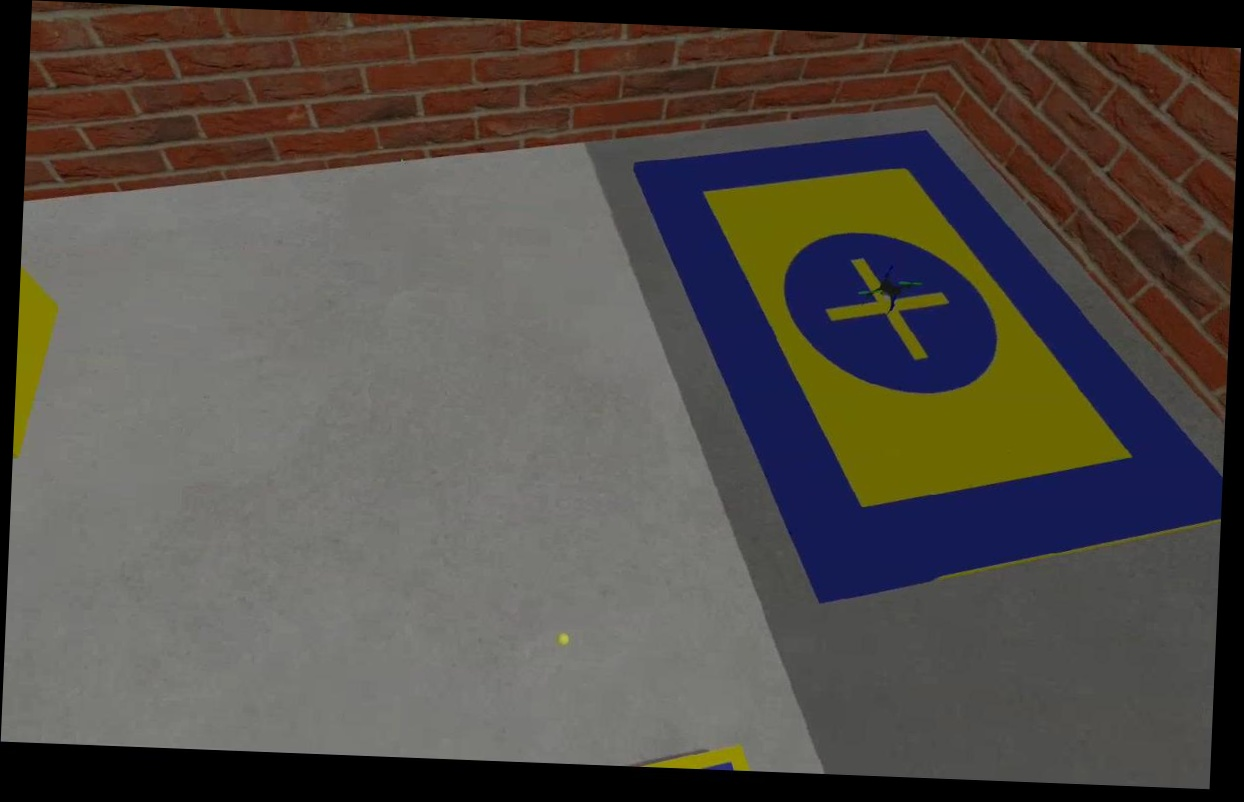large_base: (612, 117, 1234, 620)
